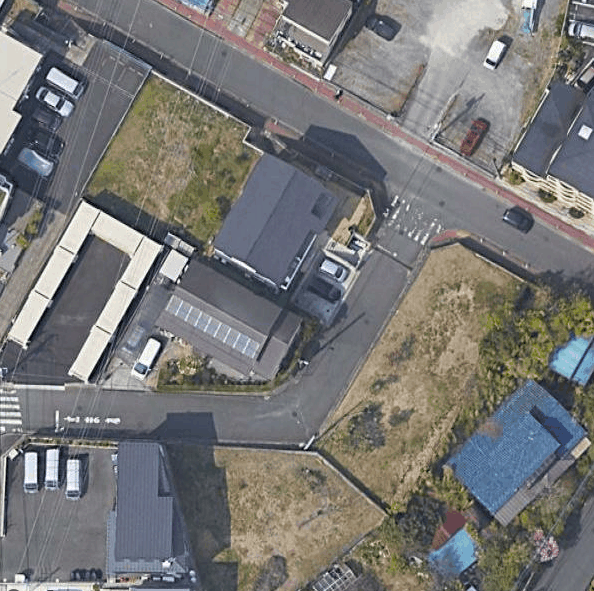solarpanel_slope: (154, 270, 281, 368)
